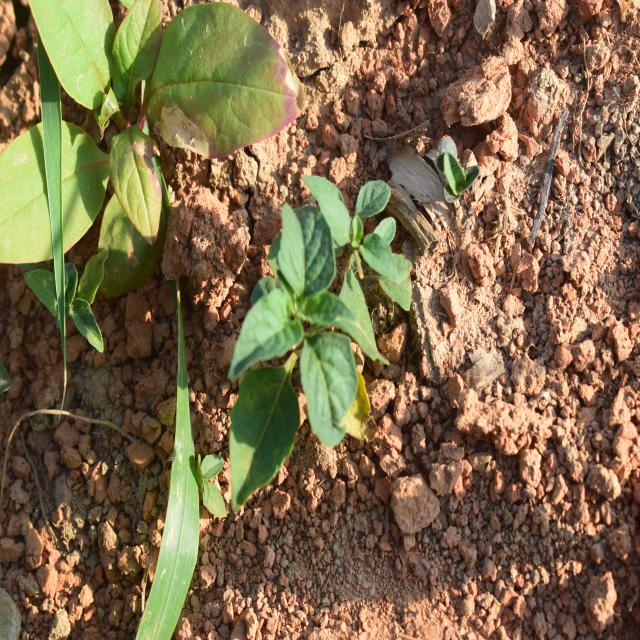Black_nightshade: (212, 200, 387, 462), (306, 178, 414, 314)
